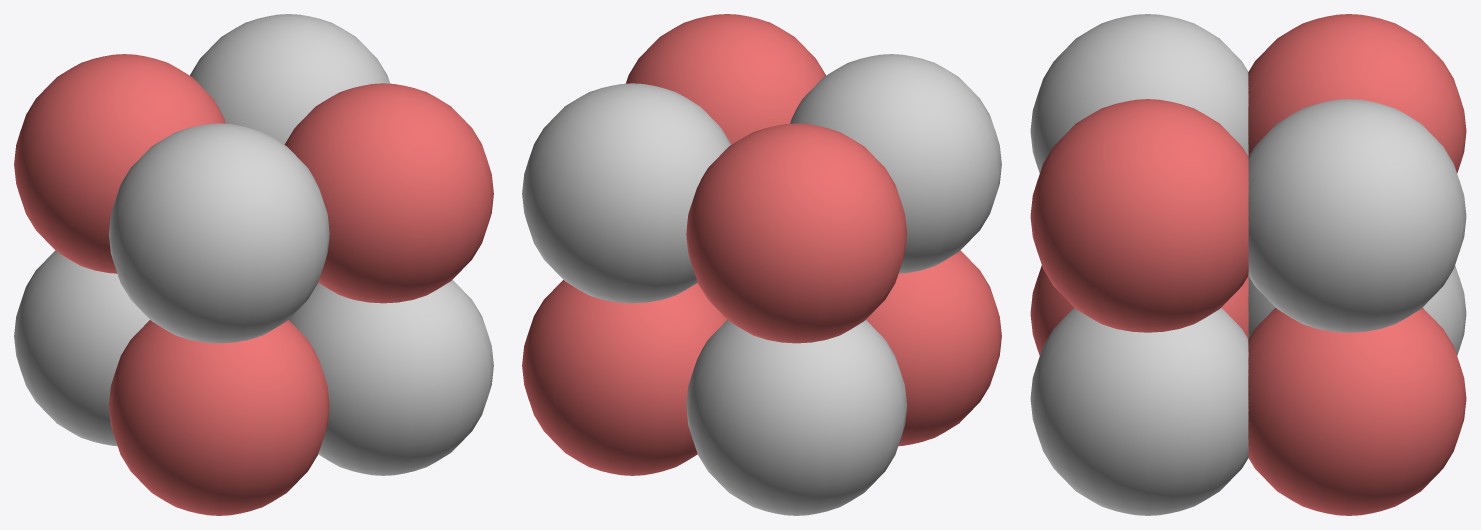
File: atomic_nucleus.glb
3 views of the same model, side by side, from view 1: azimuth 30°, elevation 25°; view 2: azimuth 150°, elevation 25°; view 3: azimuth 270°, elevation 25° (orthographic). The views are drawn at different scales.
Parts seen in each view (by area): view 1: n_2, p_1, p_0, n_3, p_3, n_0, n_1; view 2: p_3, n_0, n_1, p_2, n_2, p_1, p_0; view 3: p_0, n_1, p_2, n_3, p_3, n_2, p_1, n_0.
Boxes of the visible parts, box(x1,y1,x2,y2) form: n_2: box(108, 123, 329, 343); p_1: box(108, 320, 329, 515); p_0: box(284, 83, 493, 303); n_3: box(288, 280, 493, 475); p_3: box(14, 54, 225, 273); n_0: box(14, 250, 149, 446); n_1: box(190, 14, 389, 144); p_3: box(686, 123, 907, 343); n_0: box(686, 320, 907, 515); n_1: box(522, 83, 731, 303); p_2: box(522, 280, 727, 475); n_2: box(790, 54, 1001, 273); p_1: box(866, 250, 1001, 446); p_0: box(626, 14, 825, 144); p_0: box(1030, 99, 1248, 332); n_1: box(1248, 99, 1466, 332); p_2: box(1248, 307, 1466, 515); n_3: box(1030, 307, 1248, 515); p_3: box(1248, 14, 1466, 173); n_2: box(1030, 14, 1248, 173); p_1: box(1030, 265, 1248, 355); n_0: box(1248, 265, 1466, 355).
Bounding box in the file's own units: 1.3 × 1.3 × 1.3.
